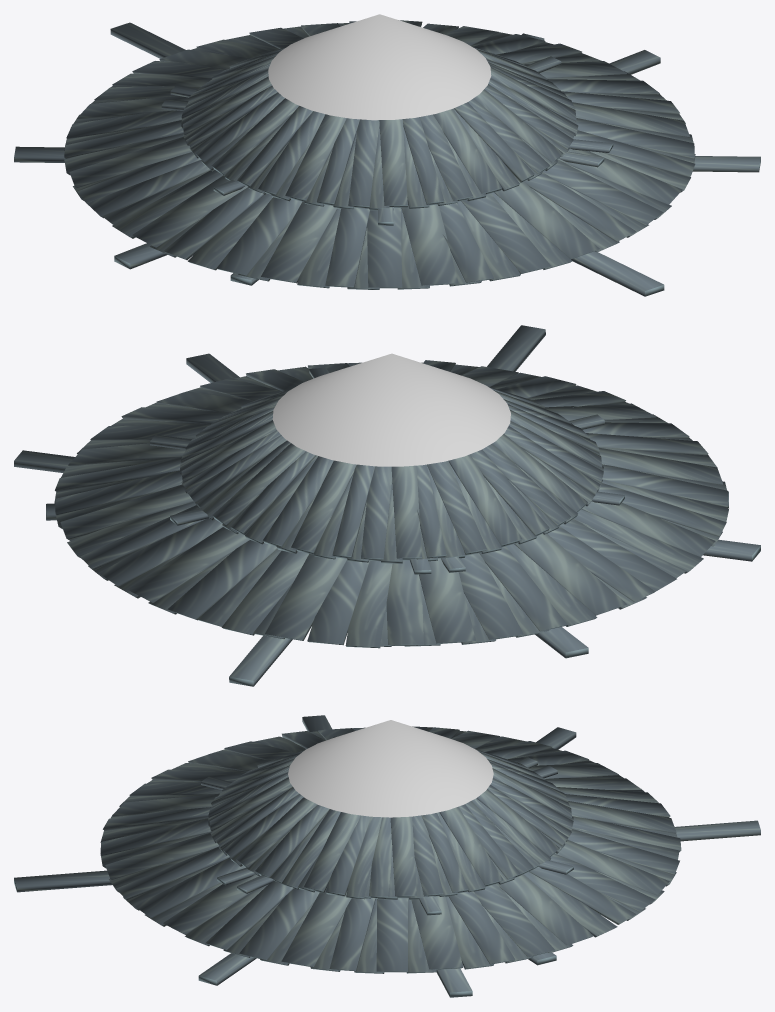
File: RoundRoof.fbx
3 views of the same model, one above another, from view 1: azimuth 30°, elevation 25°; view 2: azimuth 150°, elevation 25°; view 3: azimuth 270°, elevation 25° (orthographic). The views are drawn at different scales.
Parts seen in each view (by area): view 1: Cone; view 2: Cone; view 3: Cone.
Part boxes in pixels (x1=…): Cone: x1=14, y1=14, x2=760, y2=296; Cone: x1=14, y1=325, x2=760, y2=686; Cone: x1=14, y1=715, x2=760, y2=997.
Size of the model in its own units: 25.68 by 5.95 by 29.35.
